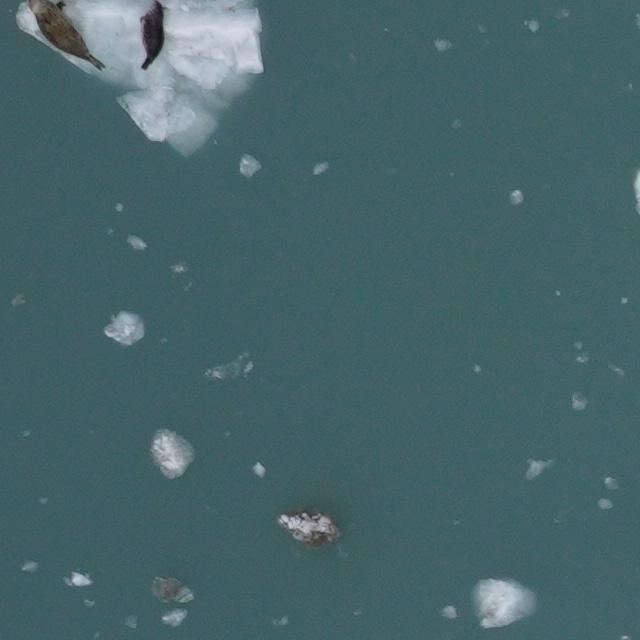seal: (20, 0, 110, 75), (136, 0, 168, 74)
